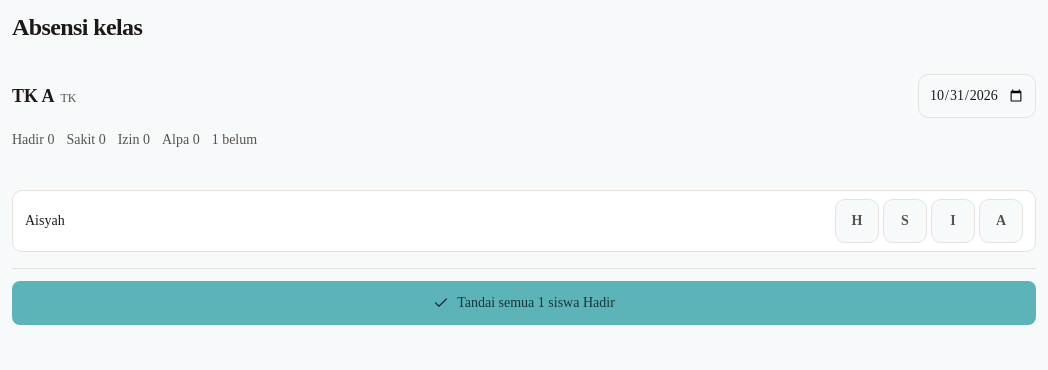
Test: class attendance failure copy (TCHX-4/15, TCH-10, TCH-11) › 403 on a row save: permission copy and no retry or sign-in link
Step 1. Click the radio button named "Hadir" → point(857, 221), box [835,199,879,243]
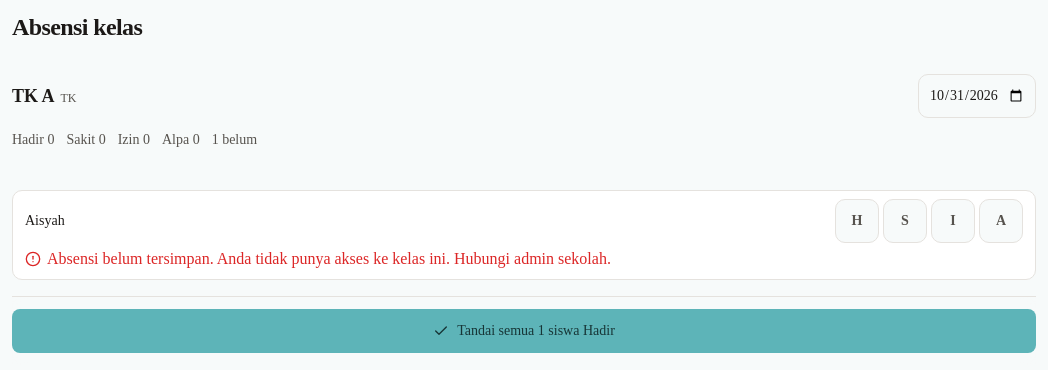
Now the message shows "Anda tidak punya akses ke kelas ini. Hubungi admin sekolah.", box [47,250,611,267]
